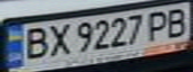2: (90, 16, 115, 52), (109, 14, 130, 50)
7: (124, 11, 148, 45)
9: (72, 19, 96, 55)
B: (18, 24, 51, 61), (160, 4, 193, 38)
P: (142, 8, 175, 42)
X: (42, 20, 72, 58)
